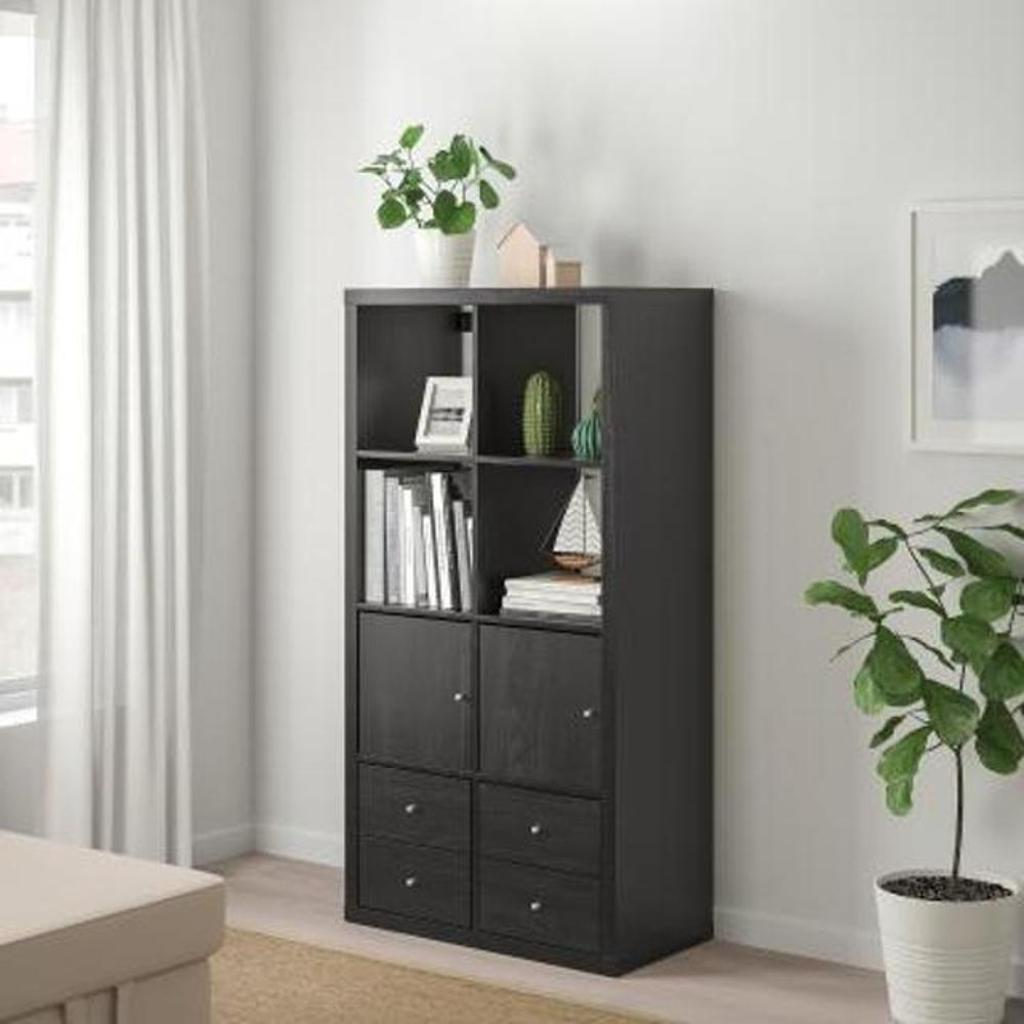lamp: (338, 284, 722, 984)
